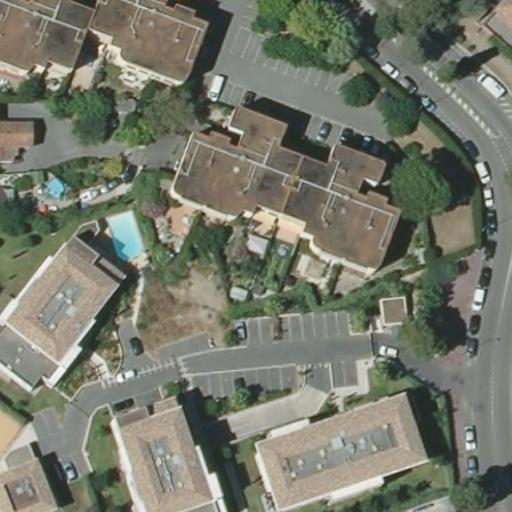pool: (105, 209, 148, 260), (43, 179, 66, 197)
